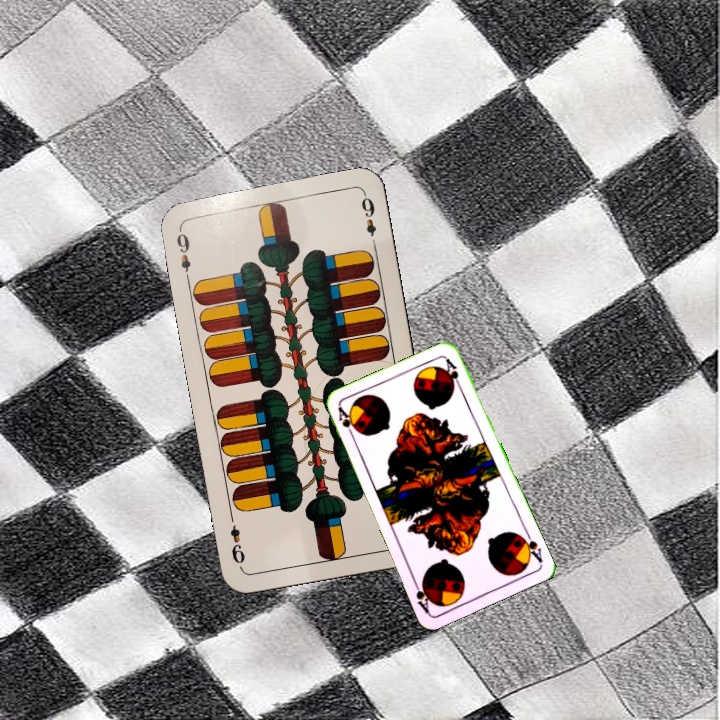E9: (172, 224, 194, 283)
SA: (515, 527, 545, 565), (334, 403, 358, 442)
